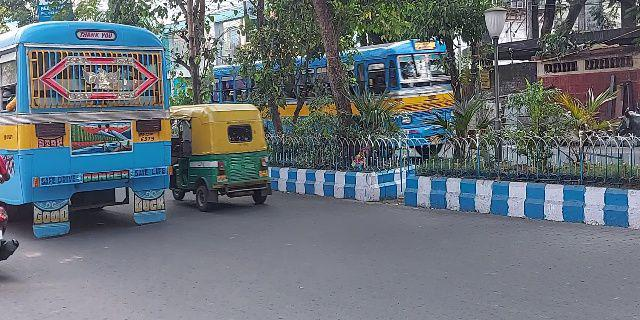Autorickshaw: (170, 101, 275, 212)
Bus: (1, 18, 174, 236)
